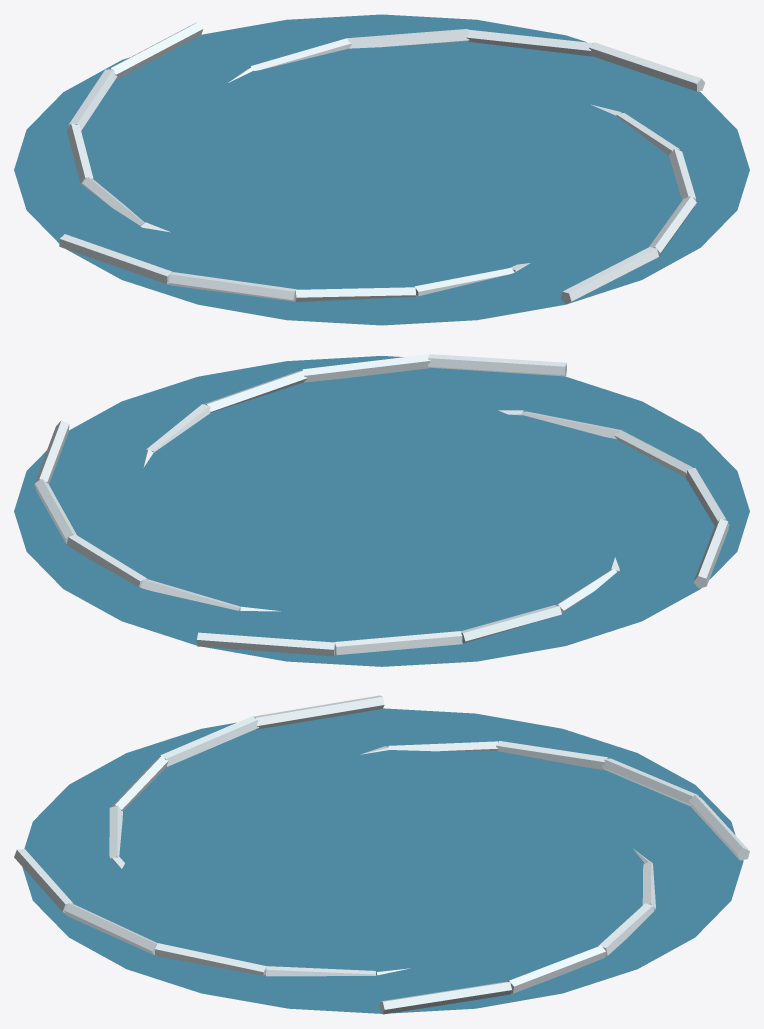
Rendered from vortex.gltf.
3 views of the same model, one above another, from view 1: azimuth 30°, elevation 25°; view 2: azimuth 150°, elevation 25°; view 3: azimuth 270°, elevation 25° (orthographic).
Parts seen in each view (by area): view 1: Body, Foam; view 2: Body, Foam; view 3: Body, Foam.
Boxes of the visible parts, x1,y1,x2,y2 form: Body: [14, 14, 749, 325]; Foam: [59, 22, 704, 304]; Body: [14, 356, 749, 666]; Foam: [34, 354, 729, 656]; Body: [22, 708, 743, 1013]; Foam: [14, 695, 749, 1014].
Bounding box in the file's own units: 2.03 × 0.39 × 2.04.
